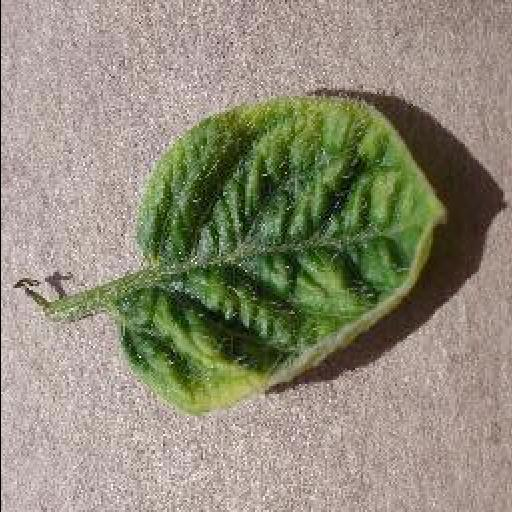disease_tomato: (110, 96, 444, 418)
